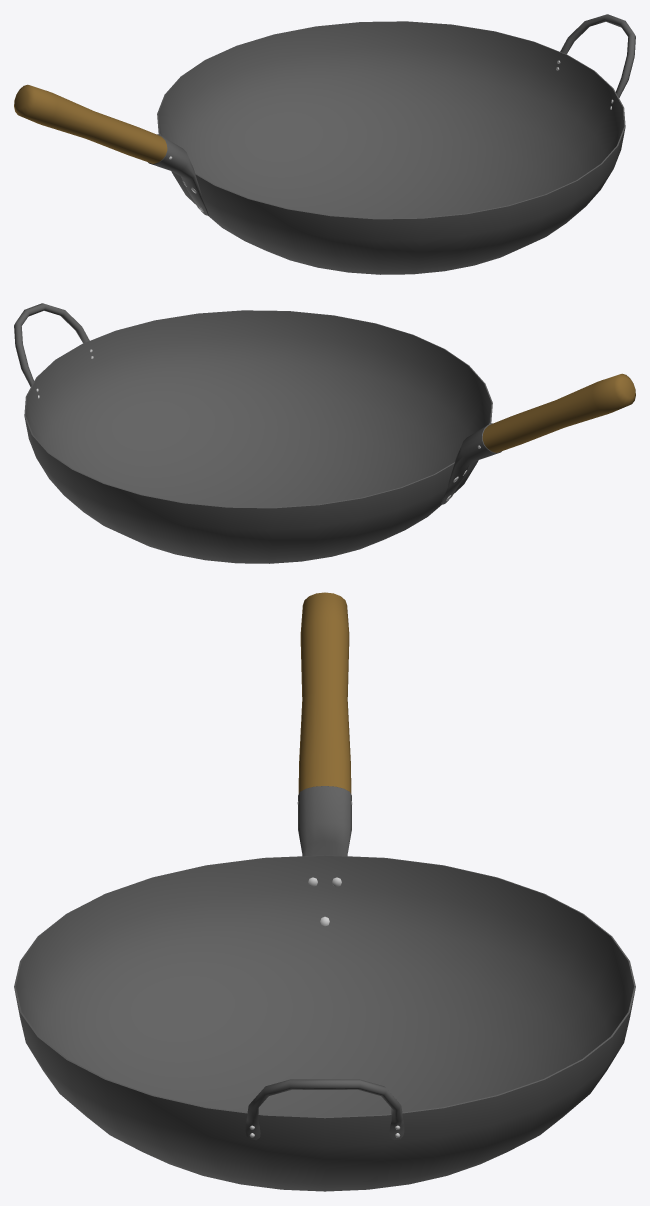
Rendered from wok.fbx.
3 views of the same model, one above another, from view 1: azimuth 30°, elevation 25°; view 2: azimuth 150°, elevation 25°; view 3: azimuth 270°, elevation 25° (orthographic). The views are drawn at different scales.
Parts seen in each view (by area): view 1: wok; view 2: wok; view 3: wok.
Boxes of the visible parts, x1,y1,x2,y2 form: wok: [14, 14, 635, 274]; wok: [14, 303, 635, 563]; wok: [14, 592, 635, 1191].
Bounding box in the file's own units: 52.95 × 20.04 × 35.31.
